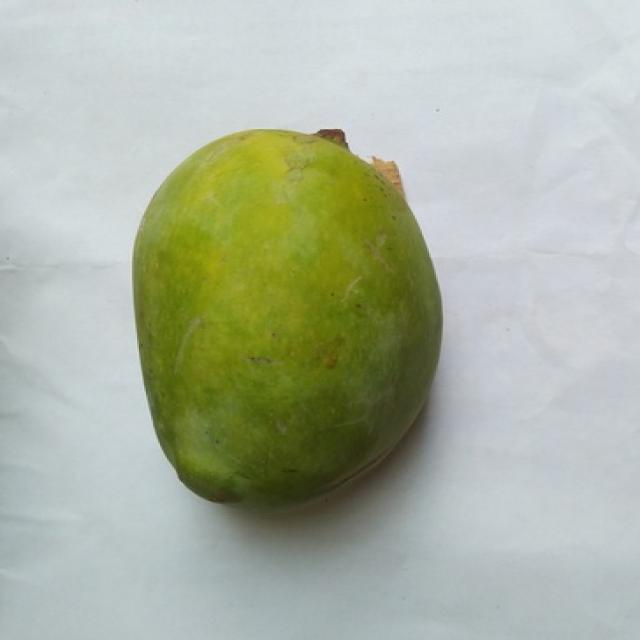Mango: (134, 129, 441, 505)
